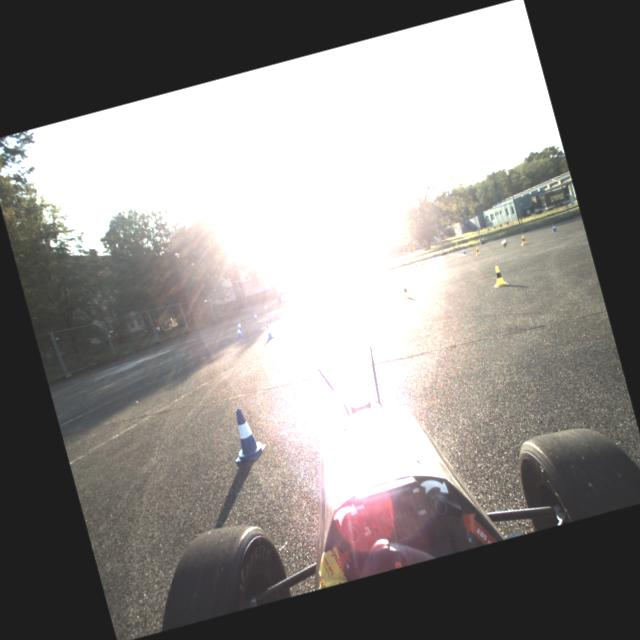blue_cone: (222, 403, 268, 463), (263, 322, 274, 338), (235, 325, 242, 337), (550, 222, 557, 232), (236, 320, 242, 330), (252, 312, 258, 320), (502, 236, 508, 243), (413, 259, 418, 267), (289, 299, 294, 306), (462, 246, 466, 254)
yellow_cone: (489, 263, 509, 287), (400, 284, 410, 299), (338, 295, 347, 308), (519, 234, 527, 245), (474, 246, 480, 255), (375, 274, 381, 283), (420, 260, 424, 268)
